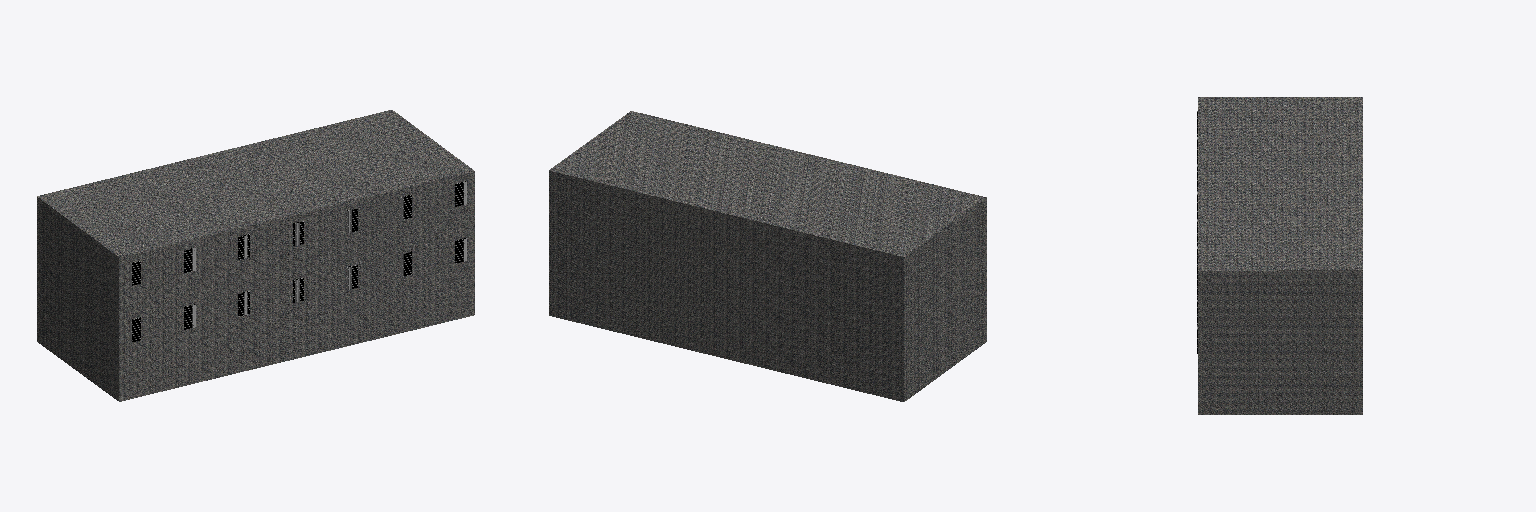
The picture shows the model from 3 angles: view 1: azimuth 30°, elevation 25°; view 2: azimuth 150°, elevation 25°; view 3: azimuth 270°, elevation 25°; orthographic projection.
Parts seen in each view (by area): view 1: longconcretebuilding; view 2: longconcretebuilding; view 3: longconcretebuilding.
Part boxes in pixels (x1,y1,x2,y2): longconcretebuilding: (37,110,474,401); longconcretebuilding: (549,111,986,401); longconcretebuilding: (1197,97,1362,414).
Size of the model in its own units: 164 by 64.05 by 66.45.
2 materials, 2 textured.